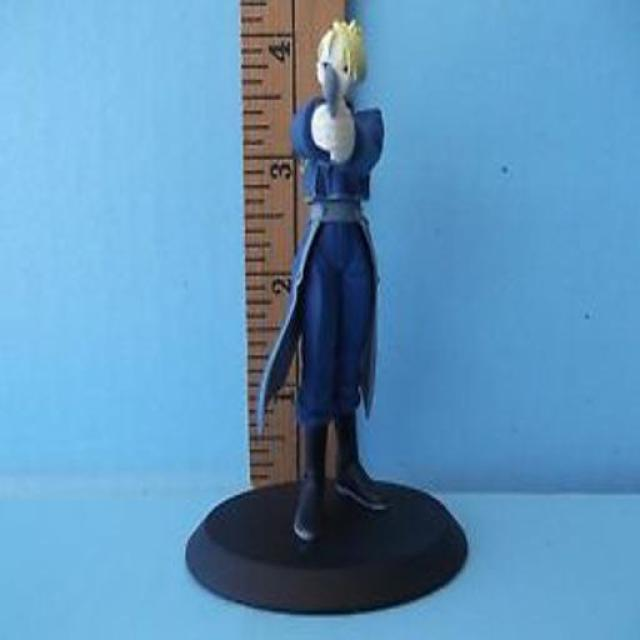pistol: (320, 65, 342, 116)
